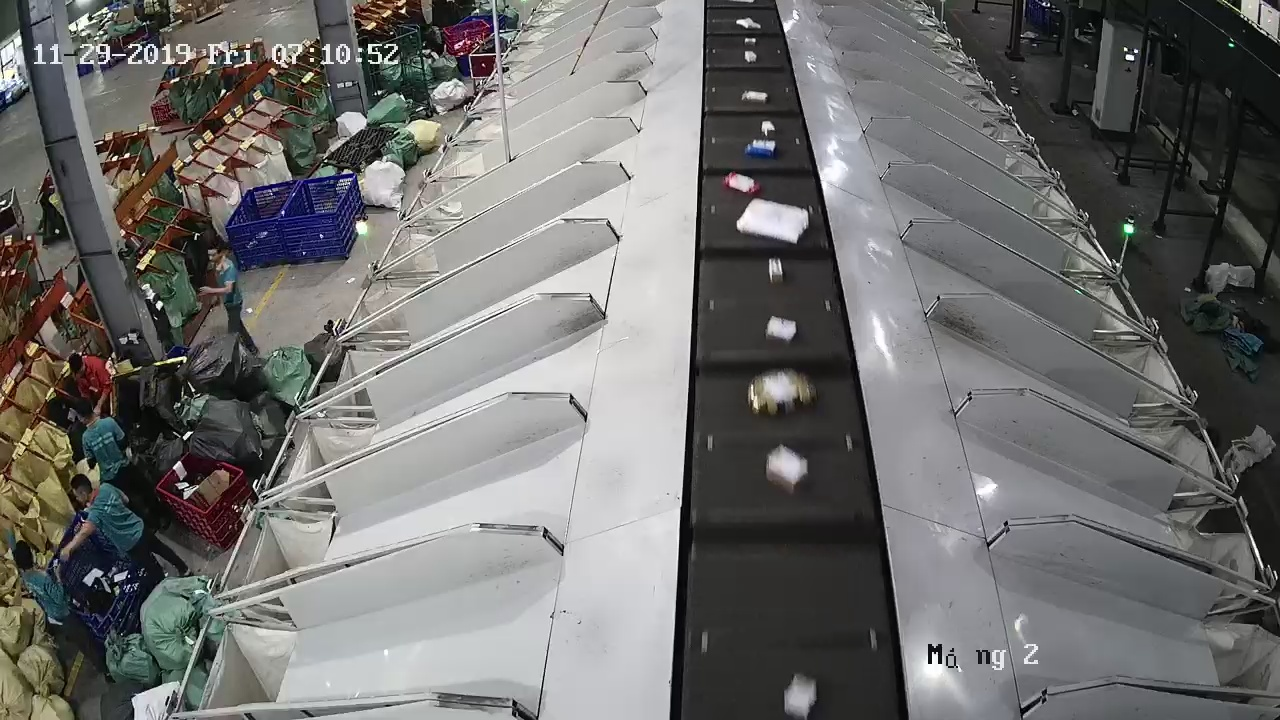parcel: (747, 367, 820, 419), (737, 198, 809, 245), (765, 445, 809, 497), (784, 673, 817, 720), (723, 171, 763, 196), (764, 315, 797, 345), (744, 139, 778, 160), (768, 257, 784, 285), (760, 120, 777, 138)
